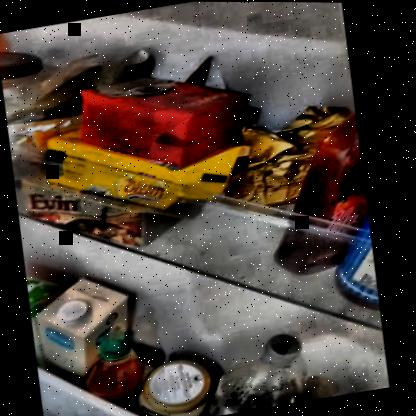butter: (14, 118, 202, 248)
milk: (29, 273, 127, 366)
